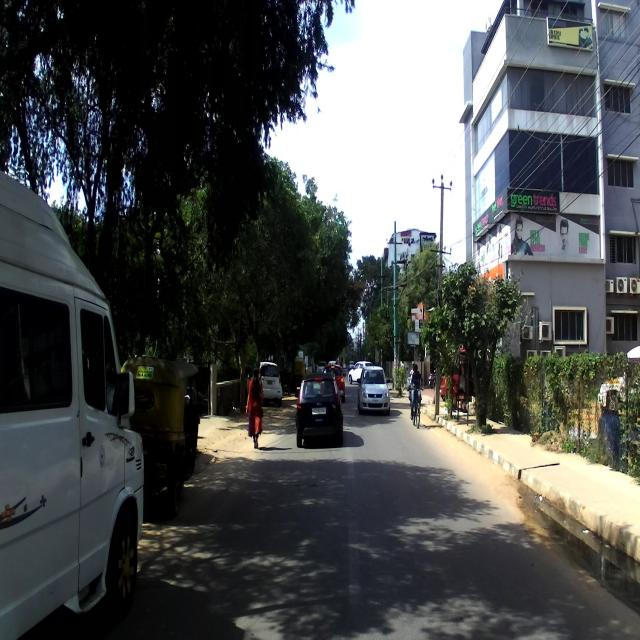autorickshaw: (120, 354, 200, 502)
car: (295, 370, 346, 450), (356, 364, 389, 419), (255, 360, 282, 406)
mini-bus: (0, 170, 145, 639)
